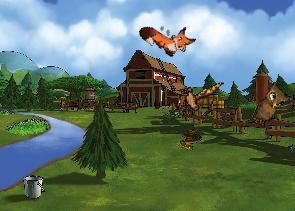eagle: (172, 67, 224, 125)
fox: (136, 7, 198, 65)
owl: (250, 79, 294, 133)
